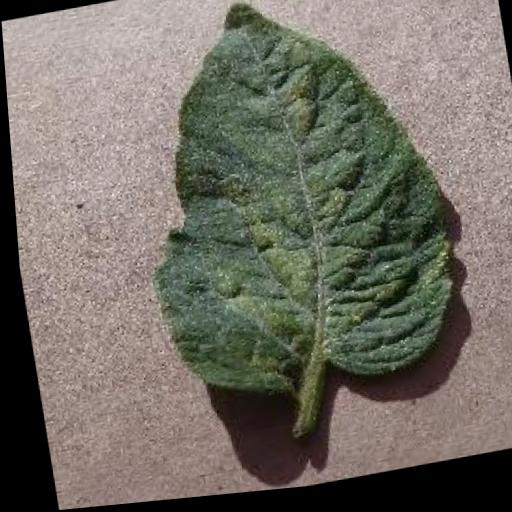Spider Mites: (109, 0, 465, 419)
